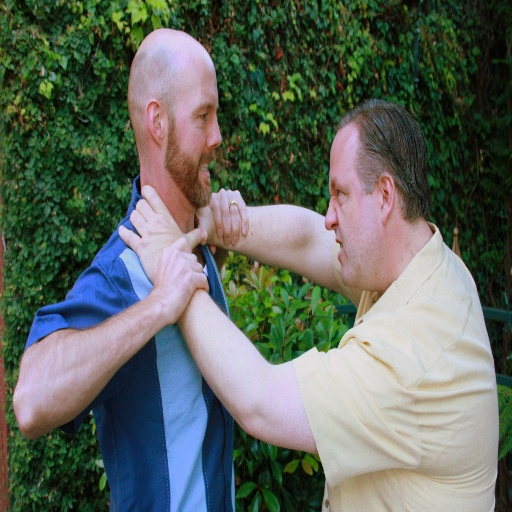hand: (117, 182, 207, 283), (207, 186, 250, 255), (192, 206, 216, 244)
